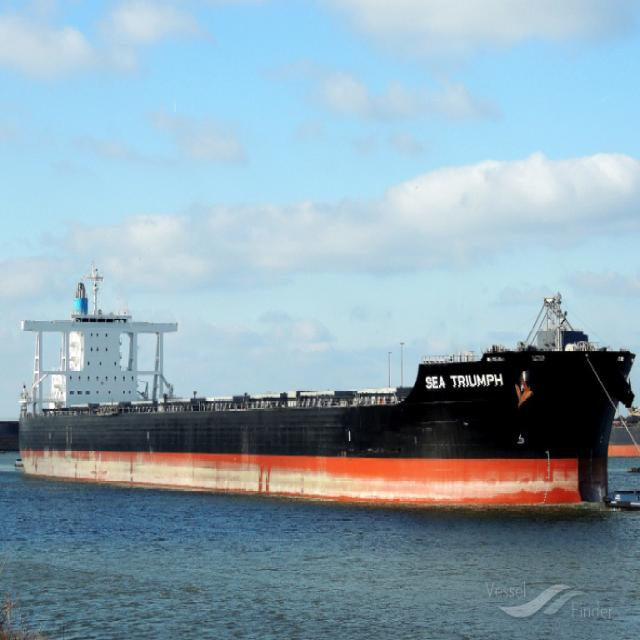OCR: (420, 364, 513, 400)
